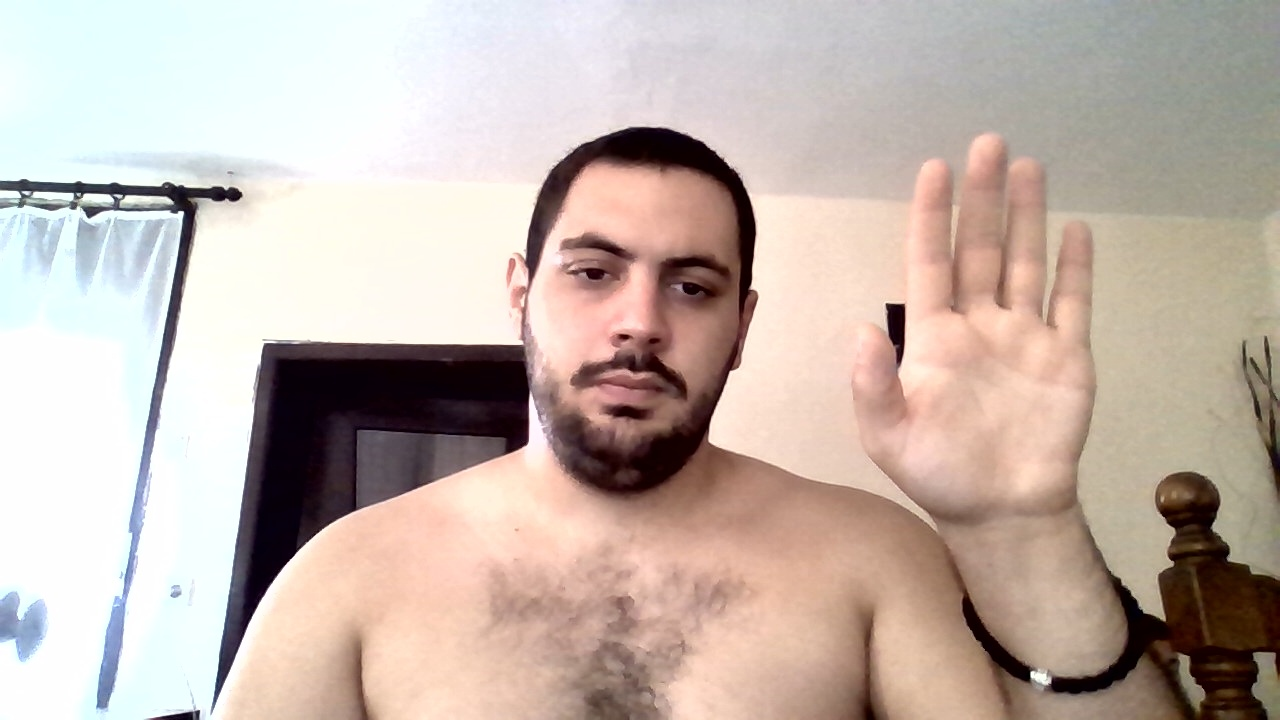palm: (851, 128, 1097, 506)
